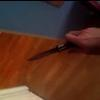melee: (26, 24, 100, 62)
